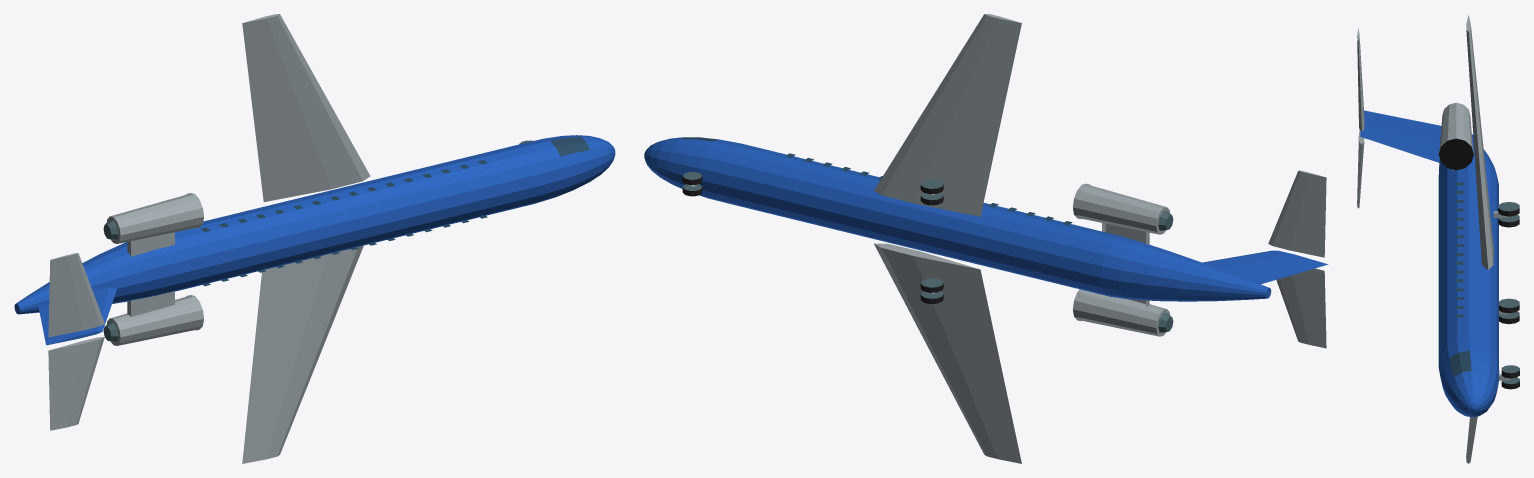
3 renders of one model, left to right at view 1: azimuth 30°, elevation 25°; view 2: azimuth 150°, elevation 25°; view 3: azimuth 270°, elevation 25°, orthographic. The views are drawn at different scales.
Parts seen in each view (by area): view 1: default_fuselage, default_wing1, default_wing-1, default_tailplane-1, default_tailplane1, default_engine1, default_engine-1, default_fin1, default_engine_pylon-1, default_engine_pylon1; view 2: default_fuselage, default_wing1, default_wing-1, default_tailplane1, default_tailplane-1, default_engine1, default_engine-1, default_fin1; view 3: default_fuselage, default_fin1, default_wing1, default_engine1, default_engine1_lip, default_windows1, default_tailplane1, default_tailplane-1, default_wing-1, default_main0.01_wheel0.17, default_main0.0-1_wheel0.17, default_nose_gear_wheel0.17 (+3 smaller).
Boxes of the visible parts, x1,y1,x2,y2 form: default_fuselage: [14, 135, 615, 314]; default_wing1: [242, 14, 370, 201]; default_wing-1: [242, 245, 363, 463]; default_tailplane-1: [48, 337, 104, 430]; default_tailplane1: [48, 253, 104, 337]; default_engine1: [106, 194, 200, 243]; default_engine-1: [106, 296, 200, 345]; default_fin1: [38, 287, 116, 345]; default_engine_pylon-1: [127, 291, 174, 316]; default_engine_pylon1: [127, 232, 174, 256]; default_fuselage: [644, 137, 1271, 301]; default_wing1: [874, 14, 1021, 216]; default_wing-1: [874, 243, 1021, 463]; default_tailplane1: [1268, 170, 1326, 257]; default_tailplane-1: [1276, 268, 1326, 348]; default_engine1: [1076, 185, 1170, 234]; default_engine-1: [1076, 290, 1170, 336]; default_fin1: [1202, 250, 1328, 284]; default_fuselage: [1438, 134, 1499, 417]; default_fin1: [1360, 110, 1441, 162]; default_wing1: [1466, 14, 1493, 270]; default_engine1: [1439, 102, 1473, 169]; default_engine1_lip: [1438, 136, 1473, 170]; default_windows1: [1455, 182, 1463, 317]; default_tailplane1: [1357, 28, 1364, 131]; default_tailplane-1: [1357, 130, 1364, 208]; default_wing-1: [1466, 416, 1477, 463]; default_main0.01_wheel0.17: [1498, 202, 1519, 216]; default_main0.0-1_wheel0.17: [1499, 298, 1519, 313]; default_nose_gear_wheel0.17: [1501, 365, 1519, 378].
Size of the model in its own units: 19.9 by 13.4 by 4.58.
